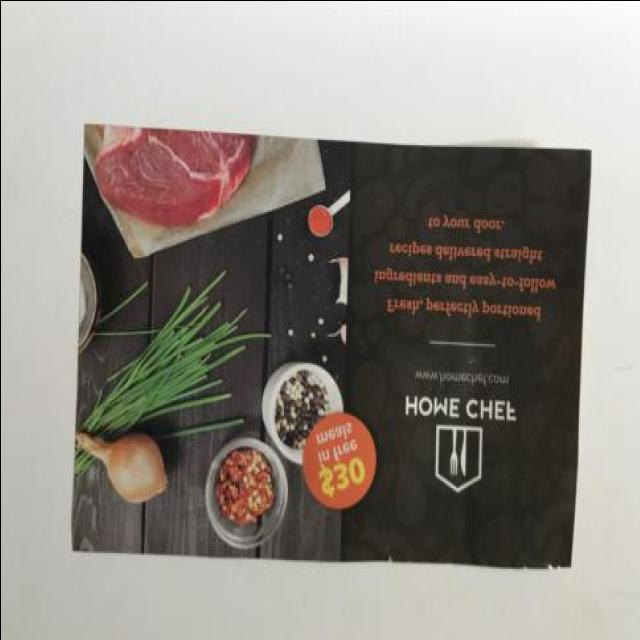kertas: (71, 117, 593, 571)
